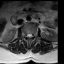CCS_normal: (28, 31, 30, 41)
LFS_normal: (32, 31, 34, 39)
LLS_normal: (30, 31, 32, 39)
RFS_normal: (24, 31, 26, 38)
RLS_normal: (26, 31, 28, 39)
